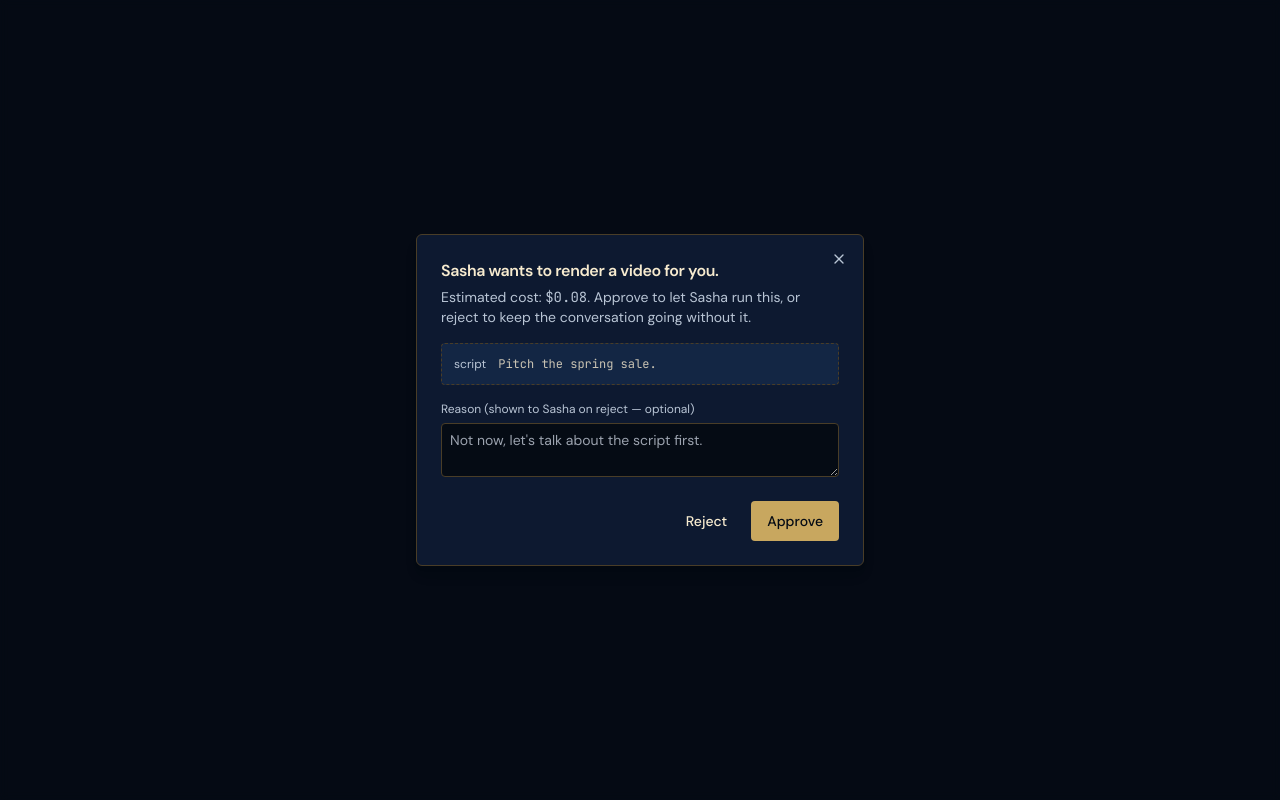
Test: ToolApprovalModal (R8.1) › error message renders on approve failure (modal stays open)
Click the button with test id "tool-approval-approve" at point(795, 521), box [751,501,839,541]
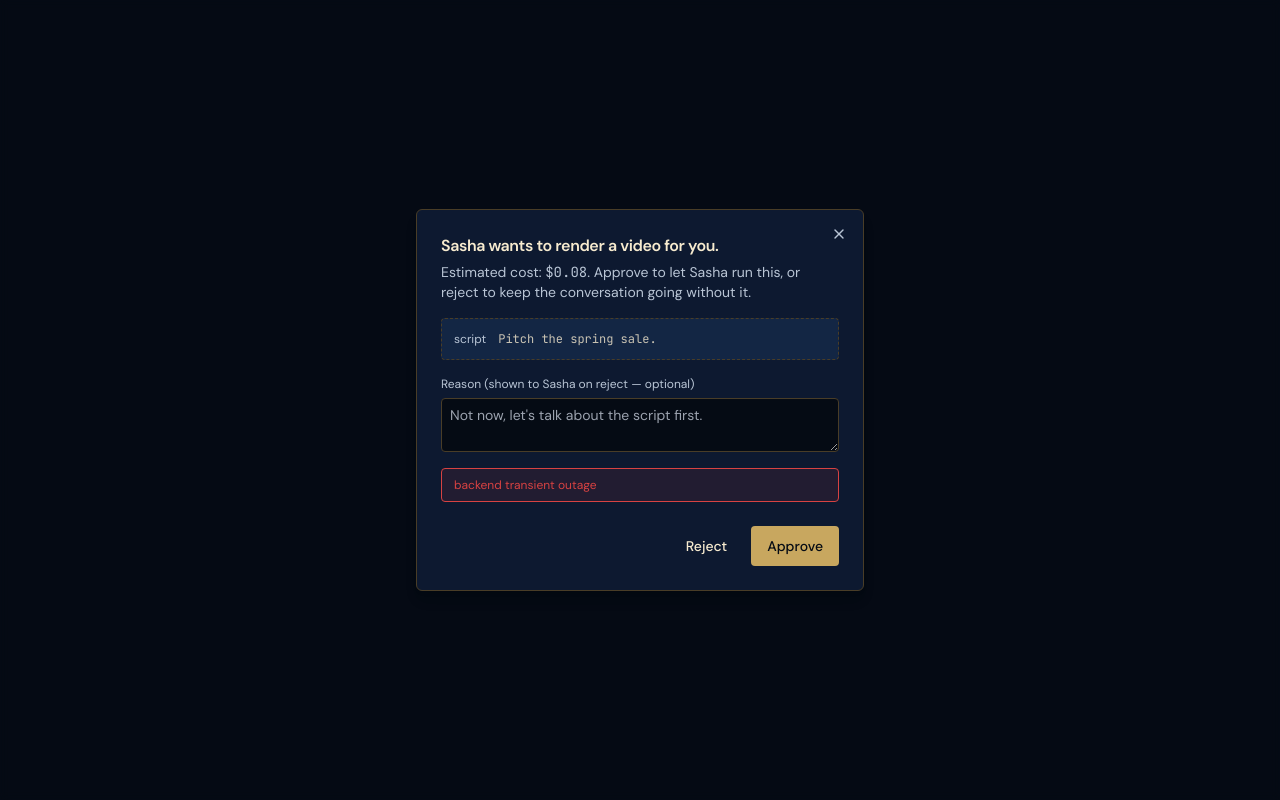
Now the text "backend transient outage" is shown, box [441,468,839,502]
